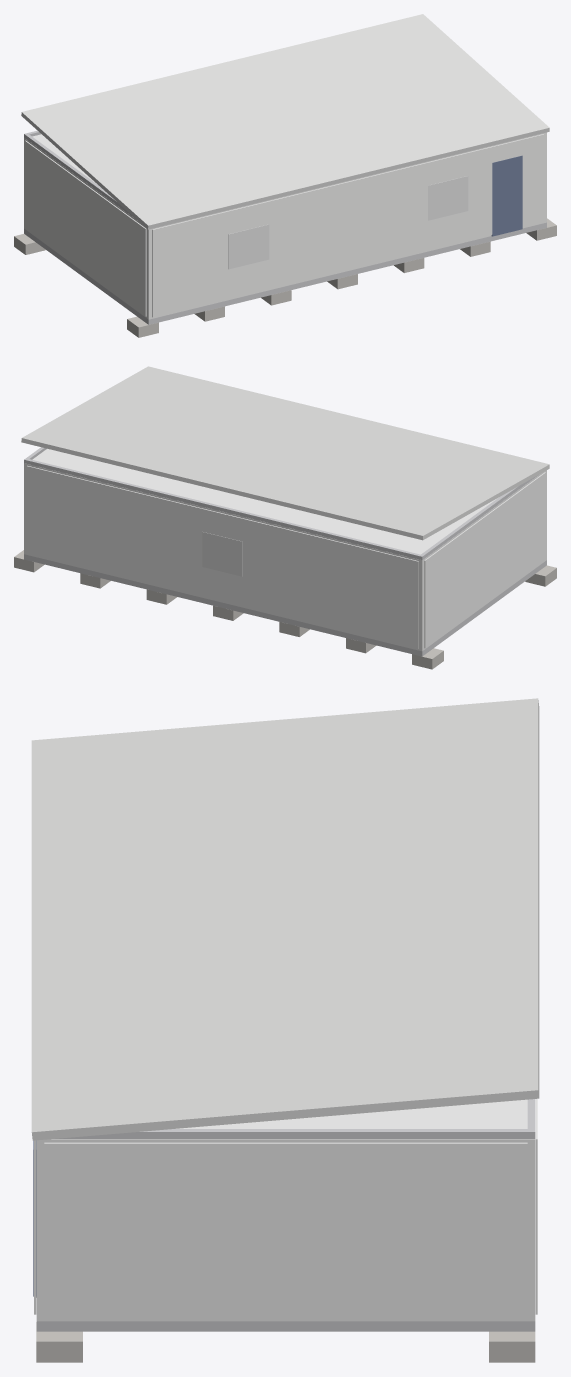
File: Studio-40-SlopingRoof-LOD1.glb
3 views of the same model, one above another, from view 1: azimuth 30°, elevation 25°; view 2: azimuth 150°, elevation 25°; view 3: azimuth 270°, elevation 25° (orthographic). The views are drawn at different scales.
Parts seen in each view (by area): view 1: RoofSlopingUpgrade, ExteriorPanelsStandard, BaseFrame, WindowsStandard, FoundationBlocks, ExteriorShell, EntryDoor, TopFrame; view 2: ExteriorPanelsStandard, RoofSlopingUpgrade, InteriorCeiling, TopFrame, ExteriorShell, BaseFrame, FoundationBlocks, WindowsStandard; view 3: RoofSlopingUpgrade, ExteriorPanelsStandard, ExteriorShell, BaseFrame, InteriorCeiling, TopFrame, FoundationBlocks.
Boxes of the visible parts, x1=… form: RoofSlopingUpgrade: x1=21, y1=14, x2=549, y2=229; ExteriorPanelsStandard: x1=25, y1=134, x2=544, y2=317; BaseFrame: x1=24, y1=222, x2=546, y2=324; WindowsStandard: x1=228, y1=176, x2=468, y2=269; FoundationBlocks: x1=14, y1=218, x2=556, y2=337; ExteriorShell: x1=24, y1=132, x2=546, y2=319; EntryDoor: x1=491, y1=155, x2=522, y2=236; TopFrame: x1=24, y1=130, x2=136, y2=219; ExteriorPanelsStandard: x1=26, y1=465, x2=545, y2=648; RoofSlopingUpgrade: x1=21, y1=366, x2=549, y2=540; InteriorCeiling: x1=32, y1=448, x2=498, y2=554; TopFrame: x1=24, y1=447, x2=538, y2=559; ExteriorShell: x1=24, y1=463, x2=546, y2=651; BaseFrame: x1=24, y1=554, x2=546, y2=656; FoundationBlocks: x1=14, y1=550, x2=556, y2=669; WindowsStandard: x1=202, y1=532, x2=242, y2=576; RoofSlopingUpgrade: x1=31, y1=698, x2=539, y2=1140; ExteriorPanelsStandard: x1=34, y1=1098, x2=537, y2=1318; ExteriorShell: x1=36, y1=1139, x2=535, y2=1321; BaseFrame: x1=36, y1=1321, x2=535, y2=1331; InteriorCeiling: x1=176, y1=1099, x2=527, y2=1128; TopFrame: x1=55, y1=1099, x2=535, y2=1138; FoundationBlocks: x1=36, y1=1297, x2=535, y2=1362.
Bounding box in the file's own units: 12.49 × 3.77 × 6.56.
